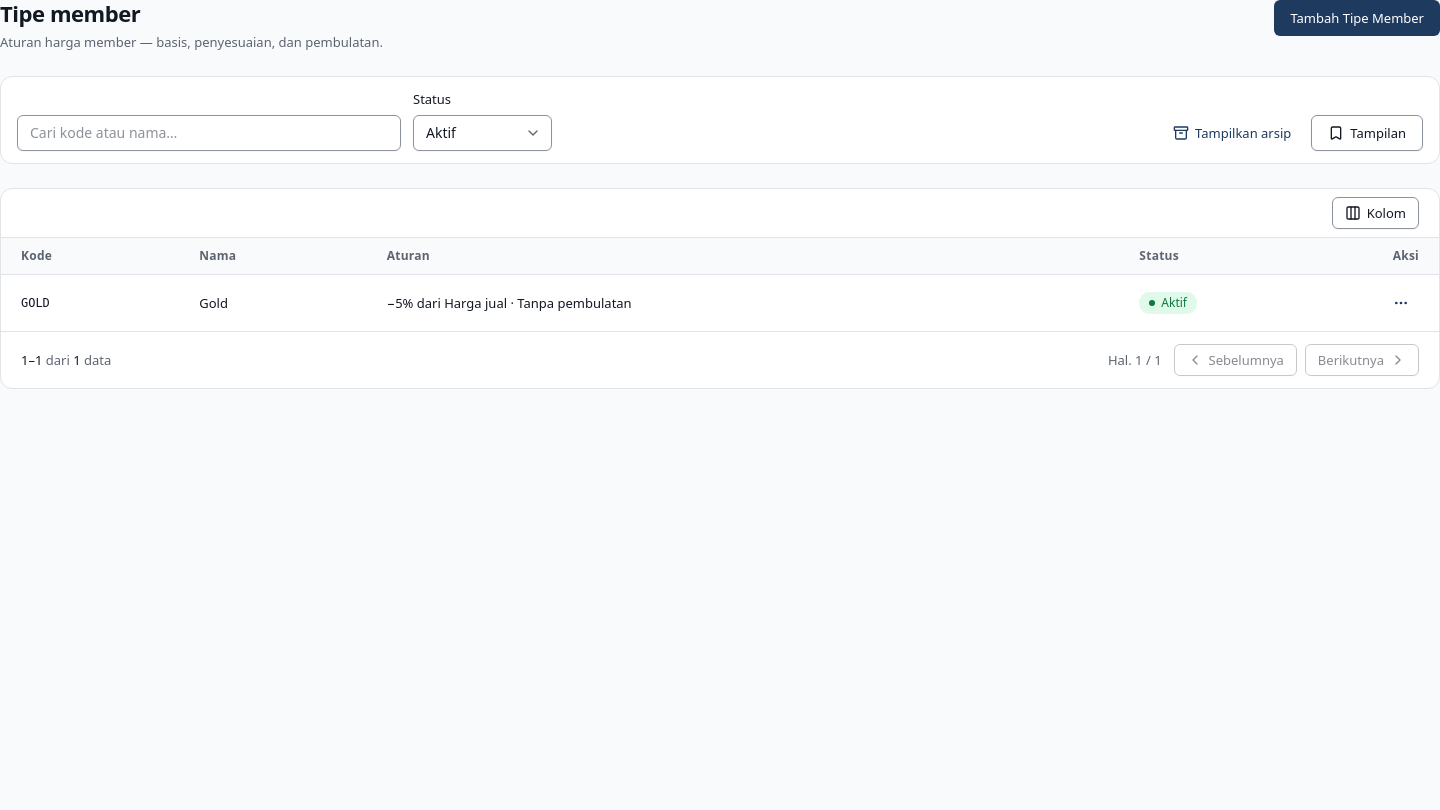
it: halaman tipe member — dampak arsip (D3) › dialog arsip menampilkan jumlah pelanggan aktif yang akan turun ke harga standar
Check: the text "Gold" is shown, box 199,294 -> 228,312
Click the button named "Aksi untuk Gold": click(1401, 302) 1383,284 -> 1419,320
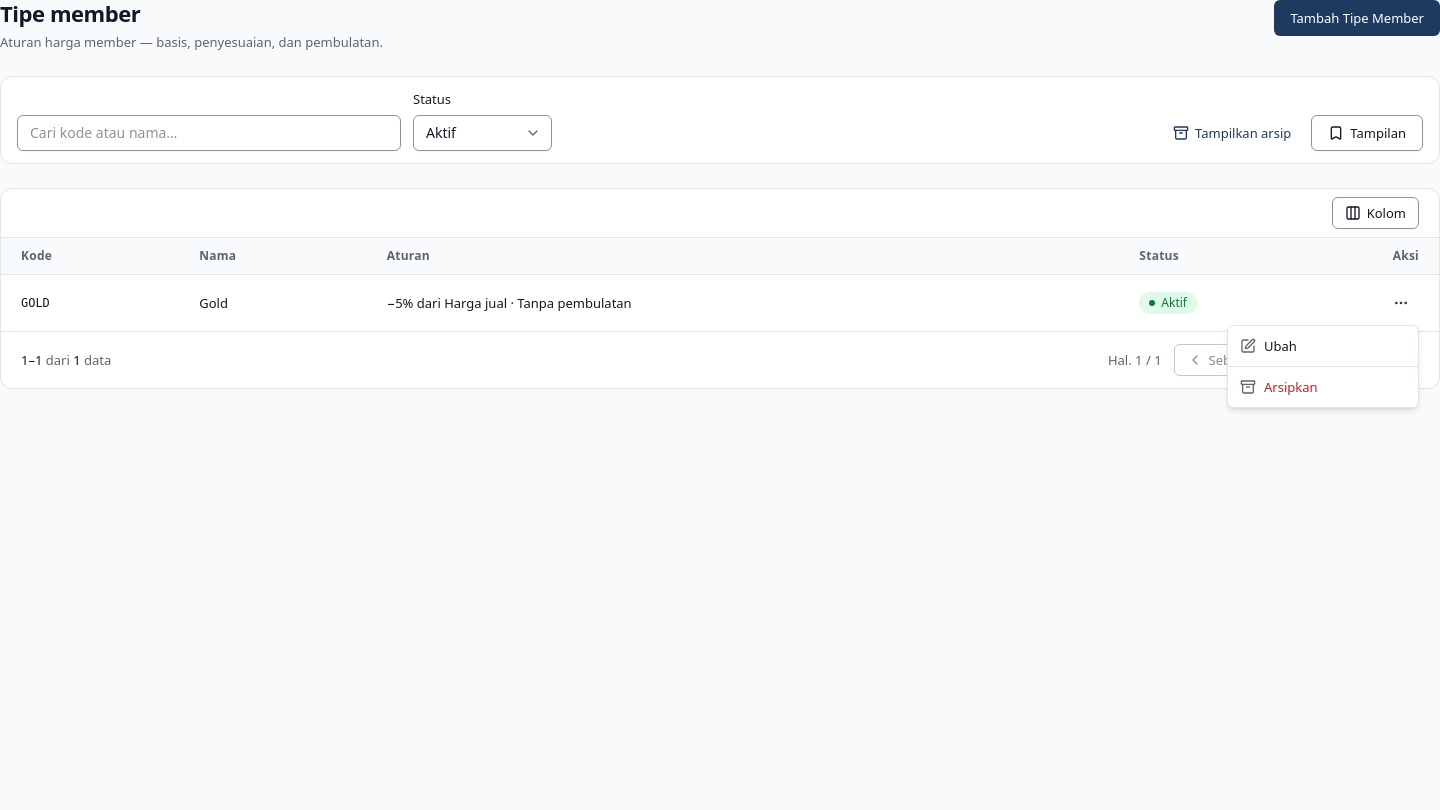
Click the menu item "Arsipkan": click(1279, 387) 1240,378 -> 1318,396
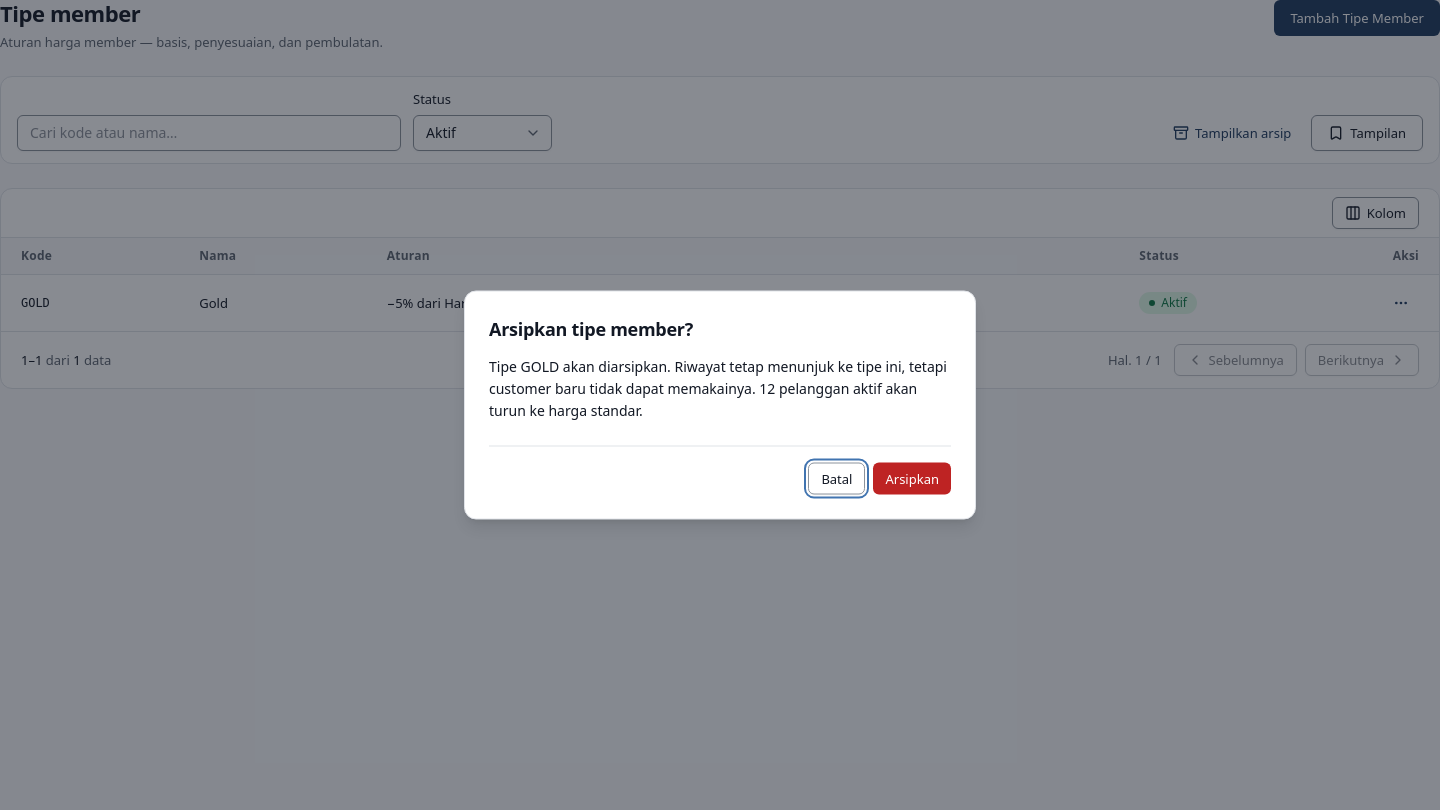
Check: the text "12 pelanggan aktif akan turun ke harga standar" is shown, box 489,356 -> 947,420
